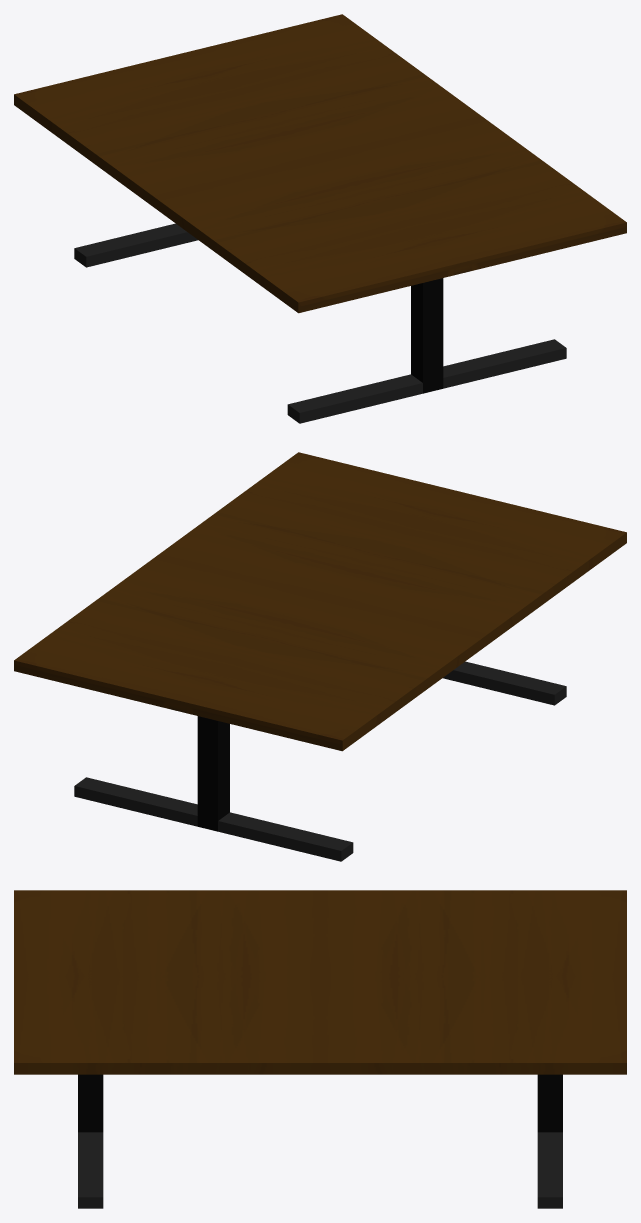
File: M_HD_DiningTable.fbx
3 renders of one model, top to bottom at view 1: azimuth 30°, elevation 25°; view 2: azimuth 150°, elevation 25°; view 3: azimuth 270°, elevation 25°, orthographic. The views are drawn at different scales.
Parts seen in each view (by area): view 1: DiningTable; view 2: DiningTable; view 3: DiningTable.
Boxes of the visible parts, x1,y1,x2,y2 form: DiningTable: (14, 14, 626, 423); DiningTable: (14, 452, 626, 861); DiningTable: (14, 890, 626, 1208).
Size of the model in its own units: 200 by 87.5 by 300.
Materials: 1 (1 with a texture image).
